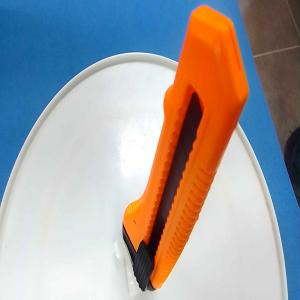estilete: (121, 5, 250, 293)
